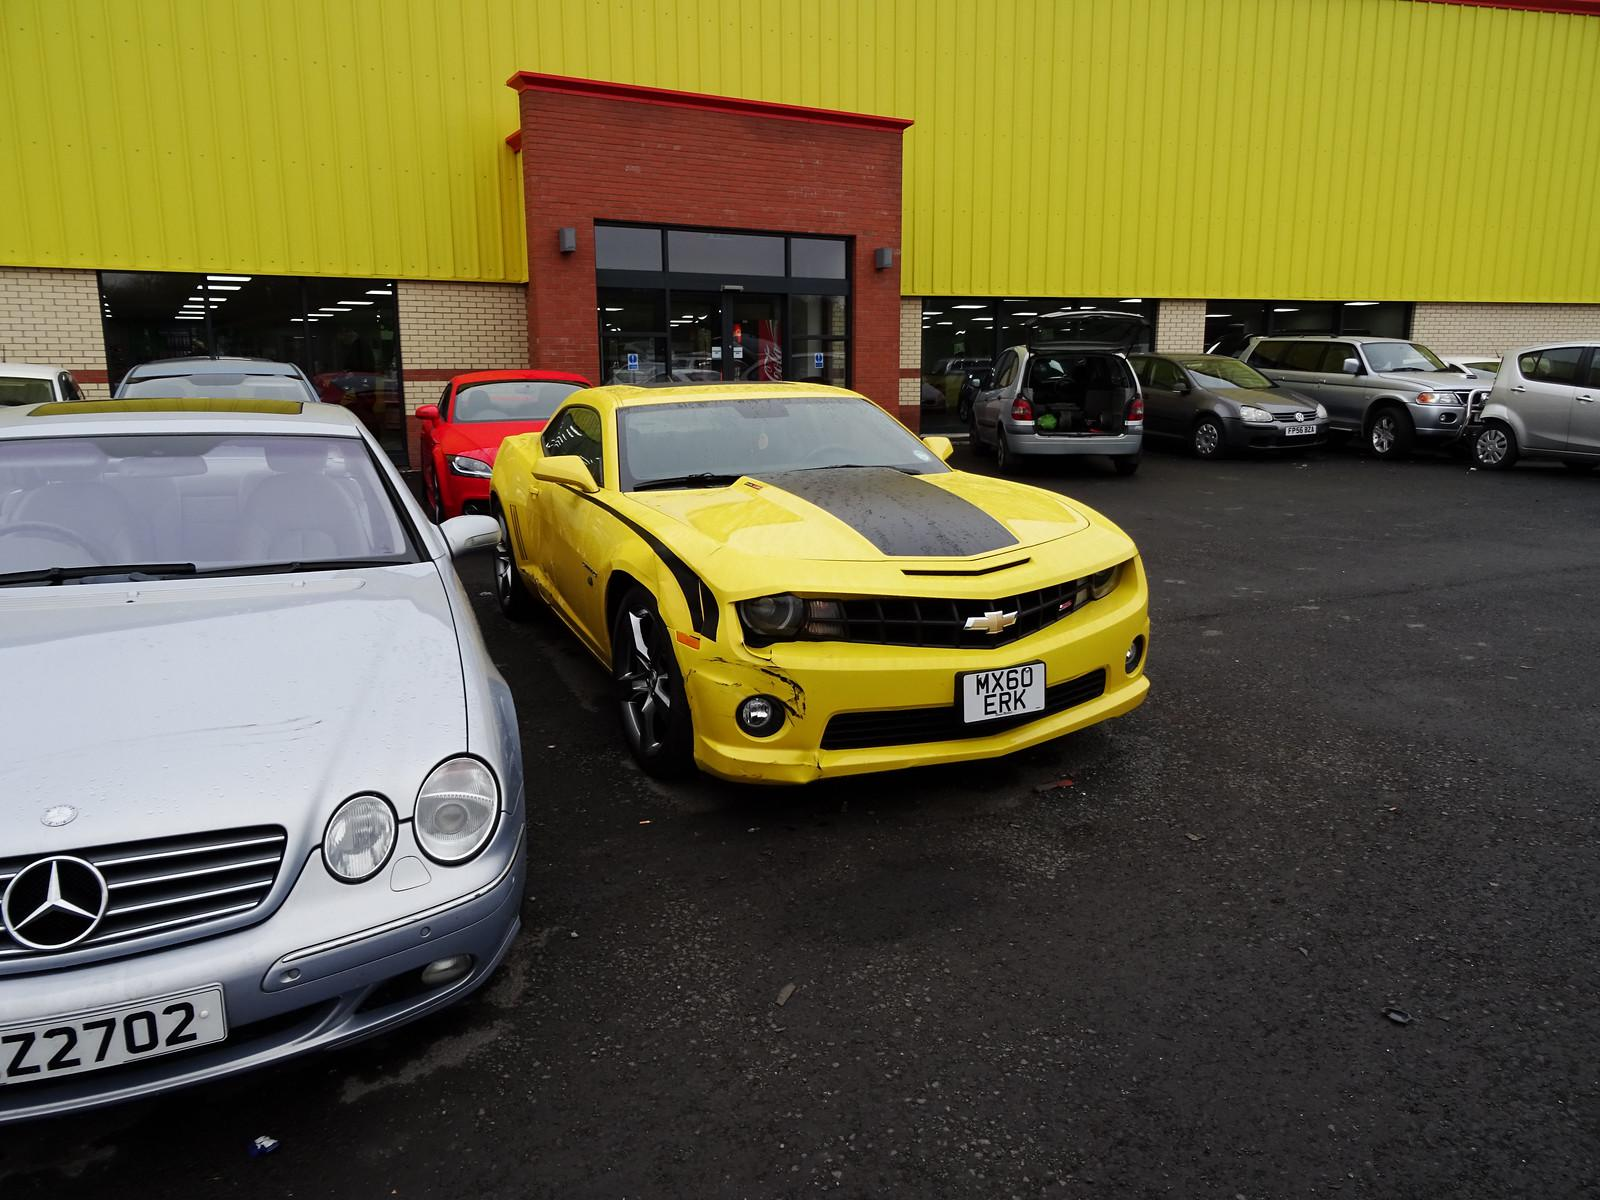bonnet-dent: (648, 466, 1067, 590)
front-bumper-dent: (675, 584, 1146, 783)
